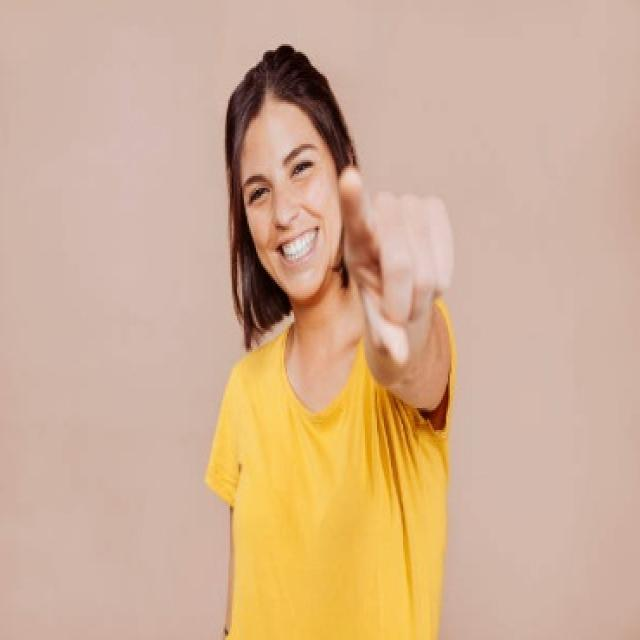adult: (204, 54, 472, 640)
